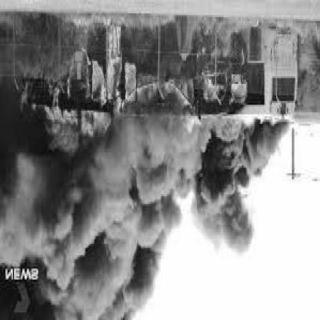Fire: (19, 24, 250, 164)
Smoke: (0, 128, 294, 320)
